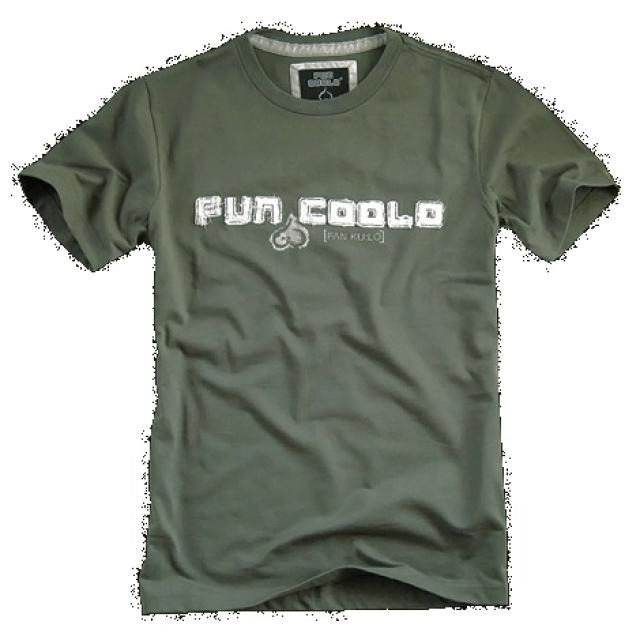shirt: (11, 27, 617, 621)
